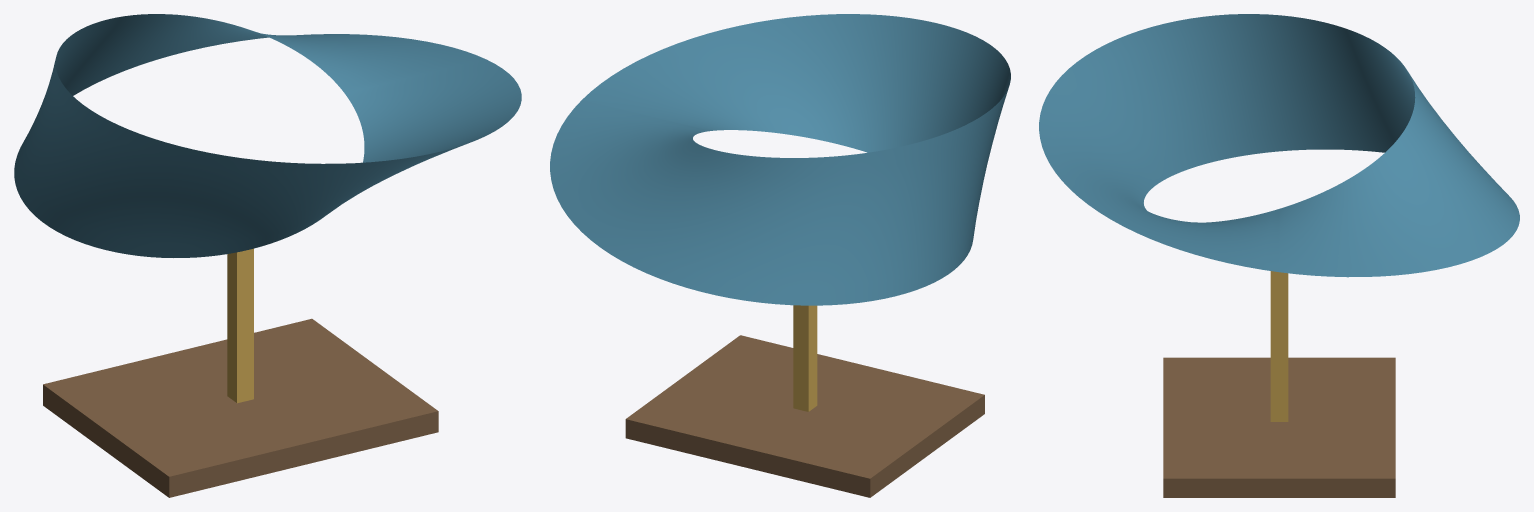
3 views of the same model, side by side, from view 1: azimuth 30°, elevation 25°; view 2: azimuth 150°, elevation 25°; view 3: azimuth 270°, elevation 25° (orthographic). The views are drawn at different scales.
Size of the model in its own units: 1.26 by 1.06 by 1.34.
